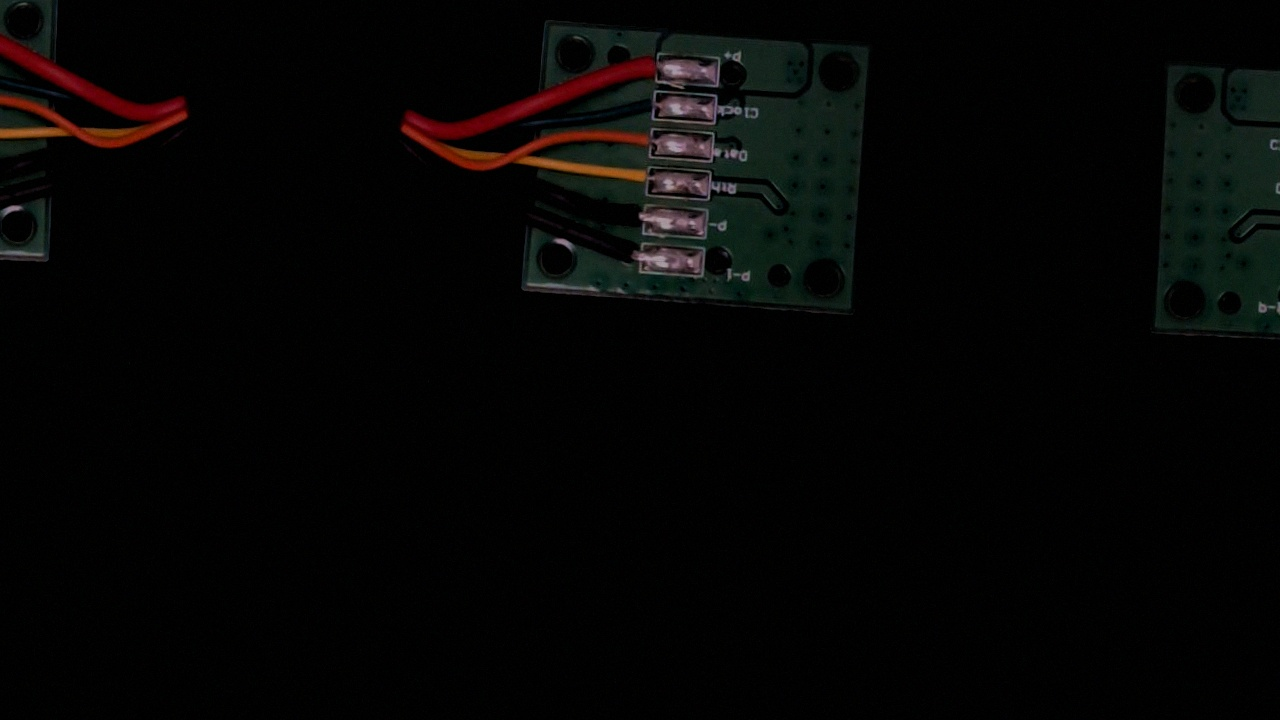Black: (589, 198, 664, 236)
Black1: (594, 240, 663, 277)
Green: (610, 88, 673, 123)
Orange: (608, 122, 672, 159)
Red: (610, 48, 674, 85)
Yellow: (592, 161, 668, 199)
